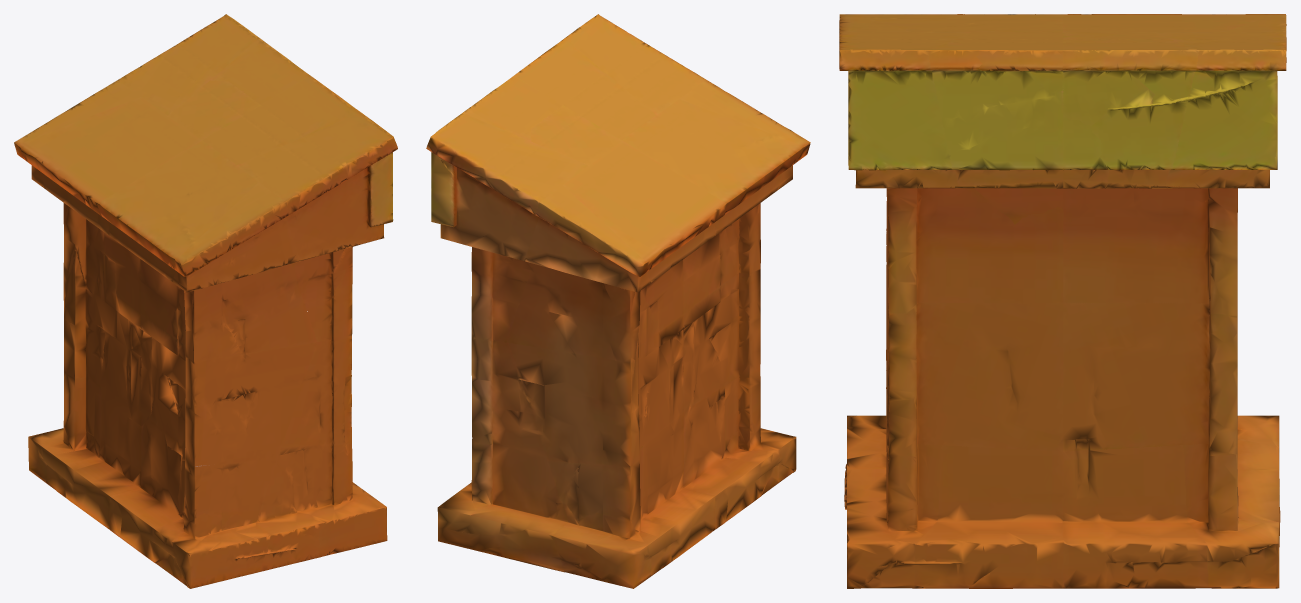
The model's file is bg_podium.glb.
3 views of the same model, side by side, from view 1: azimuth 30°, elevation 25°; view 2: azimuth 150°, elevation 25°; view 3: azimuth 270°, elevation 25° (orthographic). The views are drawn at different scales.
Parts seen in each view (by area): view 1: tripo_node_31dfa503-c2de-4f97-8f67-27bbd65545de; view 2: tripo_node_31dfa503-c2de-4f97-8f67-27bbd65545de; view 3: tripo_node_31dfa503-c2de-4f97-8f67-27bbd65545de.
Boxes of the visible parts, x1,y1,x2,y2 form: tripo_node_31dfa503-c2de-4f97-8f67-27bbd65545de: [14, 14, 397, 588]; tripo_node_31dfa503-c2de-4f97-8f67-27bbd65545de: [426, 14, 810, 588]; tripo_node_31dfa503-c2de-4f97-8f67-27bbd65545de: [839, 14, 1286, 588].
Bounding box in the file's own units: 0.5602 × 0.9998 × 0.748.
1 material, 1 textured.
